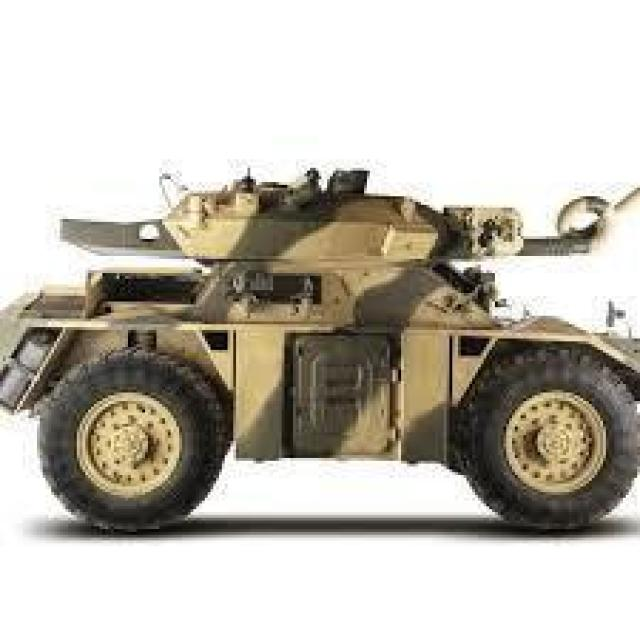Tanks: (9, 50, 572, 587)
